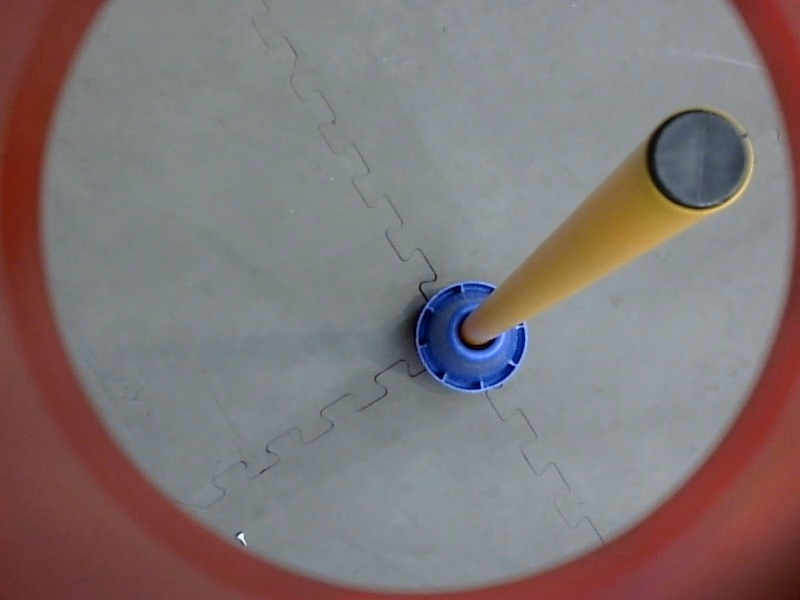tip: (641, 97, 759, 225)
